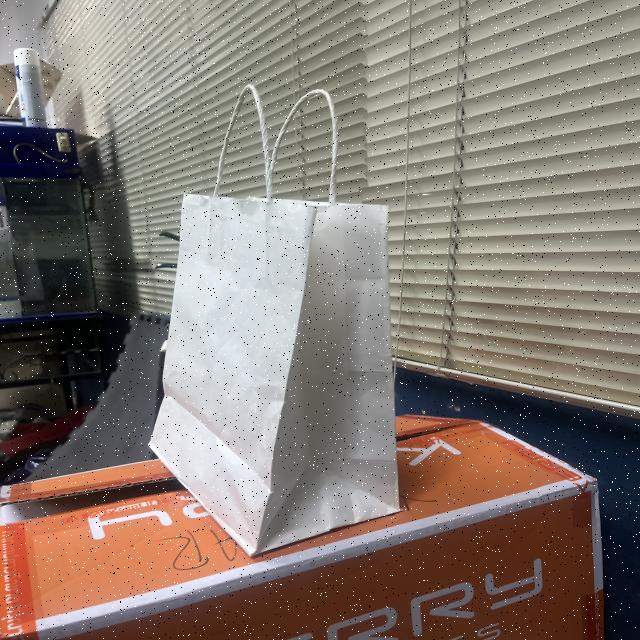paper bag: (136, 80, 418, 568)
